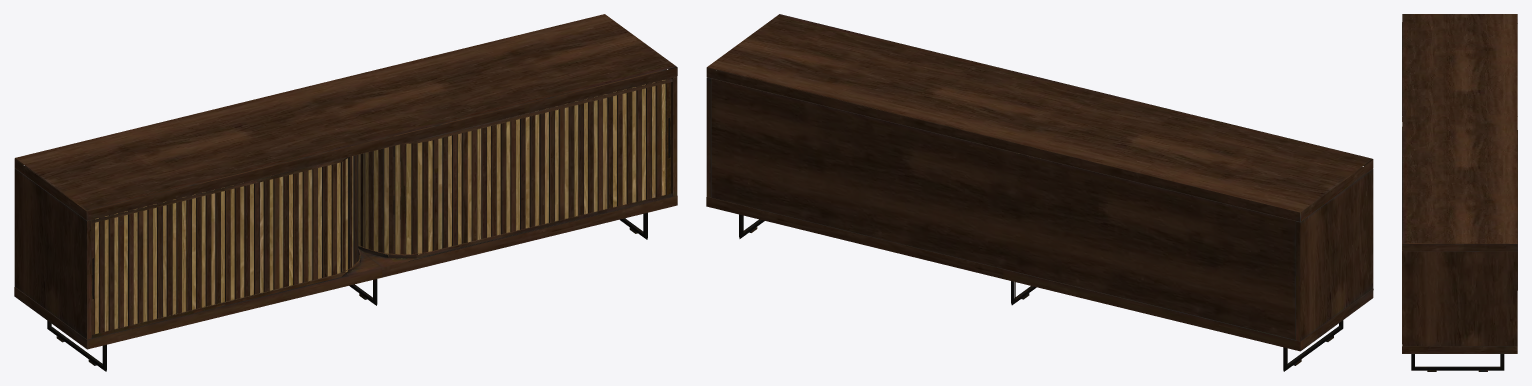
File: modern_wooden_cabinet.glb
3 renders of one model, left to right at view 1: azimuth 30°, elevation 25°; view 2: azimuth 150°, elevation 25°; view 3: azimuth 270°, elevation 25°, orthographic. The views are drawn at different scales.
Parts seen in each view (by area): view 1: modern_wooden_cabinet_body, modern_wooden_cabinet_door_r, modern_wooden_cabinet_door_l; view 2: modern_wooden_cabinet_body; view 3: modern_wooden_cabinet_body.
Boxes of the visible parts, x1,y1,x2,y2 form: modern_wooden_cabinet_body: (14, 14, 677, 371); modern_wooden_cabinet_door_r: (358, 78, 671, 255); modern_wooden_cabinet_door_l: (91, 145, 358, 337); modern_wooden_cabinet_body: (706, 14, 1373, 371); modern_wooden_cabinet_body: (1402, 14, 1517, 371).
Bounding box in the file's own units: 2.44 × 0.6801 × 0.5204.
Materials: 1 (1 with a texture image).
